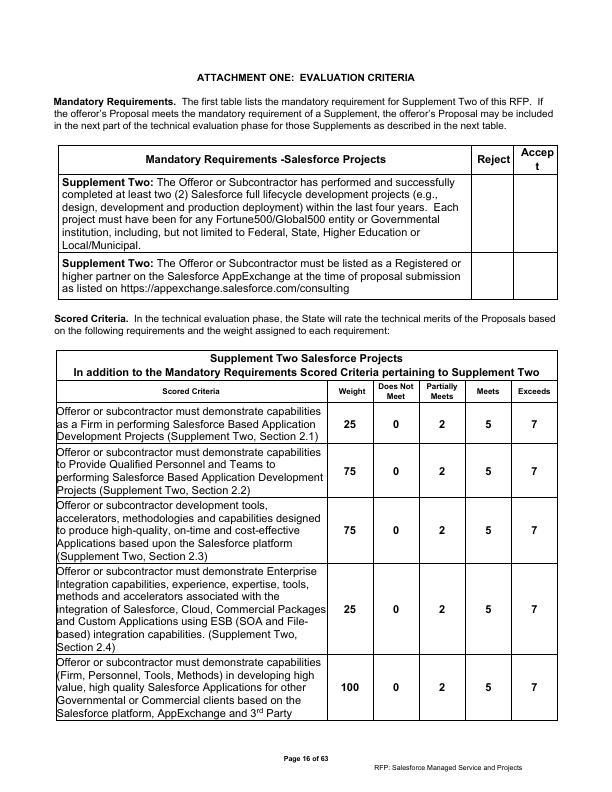table: (54, 346, 566, 728), (55, 143, 563, 302)
text: (52, 95, 559, 134), (50, 309, 563, 339), (194, 70, 420, 86), (371, 761, 527, 778), (279, 751, 332, 766)
